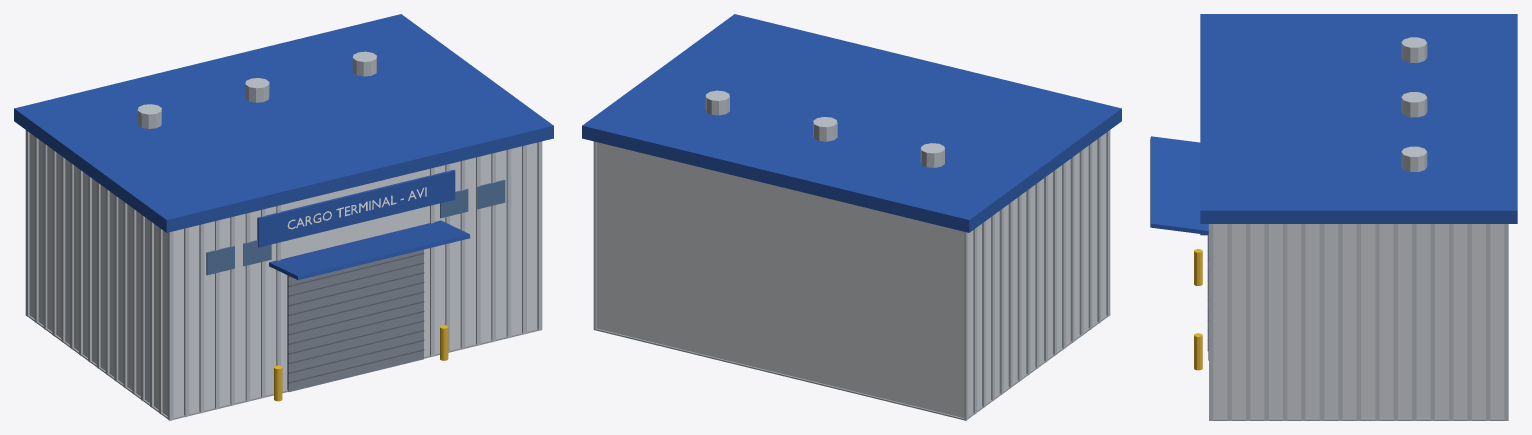
File: warehouse.glb
The picture shows the model from 3 angles, left to right: view 1: azimuth 30°, elevation 25°; view 2: azimuth 150°, elevation 25°; view 3: azimuth 270°, elevation 25°; orthographic projection. The views are drawn at different scales.
Visible parts, largest first — view 1: RoofTrim, WallSide.001, WallFront.001, Door, WallFront, SignBoard, Canopy, WallLintel, Rib.002, Rib.015, Rib.013, Rib (+38 smaller); view 2: WallBack, RoofTrim, WallSide.001, Base, Rib.049, Rib.033, Rib.047, Rib.019, Rib.021, Rib.035, Rib.037, Rib.039 (+14 smaller); view 3: RoofTrim, WallSide, Canopy, Rib.028, WallBack, WallFront, Rib.018, Rib.020, Rib.022, Rib.024, Rib.026, Rib.030 (+16 smaller).
Part boxes in pixels (bbox=[...]): RoofTrim: bbox=[14, 14, 553, 232]; WallSide.001: bbox=[29, 133, 176, 417]; WallFront.001: bbox=[167, 205, 287, 417]; Door: bbox=[287, 249, 423, 391]; WallFront: bbox=[422, 143, 537, 356]; SignBoard: bbox=[257, 169, 455, 247]; Canopy: bbox=[269, 220, 470, 280]; WallLintel: bbox=[287, 170, 422, 257]; Rib.002: bbox=[199, 224, 204, 413]; Rib.015: bbox=[537, 141, 542, 330]; Rib.013: bbox=[506, 149, 511, 338]; Rib: bbox=[168, 231, 173, 420]; WallBack: bbox=[596, 142, 968, 417]; RoofTrim: bbox=[582, 14, 1121, 232]; WallSide.001: bbox=[961, 135, 1106, 417]; Base: bbox=[595, 315, 1107, 420]; Rib.049: bbox=[964, 232, 968, 420]; Rib.033: bbox=[1035, 182, 1039, 368]; Rib.047: bbox=[973, 227, 977, 414]; Rib.019: bbox=[1097, 136, 1101, 323]; Rib.021: bbox=[1088, 143, 1092, 329]; Rib.035: bbox=[1026, 188, 1030, 375]; Rib.037: bbox=[1017, 195, 1021, 381]; Rib.039: bbox=[1008, 201, 1012, 388]; RoofTrim: bbox=[1200, 14, 1517, 223]; WallSide: bbox=[1213, 224, 1503, 418]; Canopy: bbox=[1150, 136, 1208, 234]; Rib.028: bbox=[1319, 224, 1324, 420]; WallBack: bbox=[1499, 224, 1504, 418]; WallFront: bbox=[1213, 224, 1218, 418]; Rib.018: bbox=[1227, 224, 1231, 420]; Rib.020: bbox=[1246, 224, 1250, 420]; Rib.022: bbox=[1264, 224, 1268, 420]; Rib.024: bbox=[1283, 224, 1287, 420]; Rib.026: bbox=[1301, 224, 1305, 420]; Rib.030: bbox=[1338, 224, 1342, 420].
Bounding box in the file's own units: 12.6 × 6.85 × 9.95.
